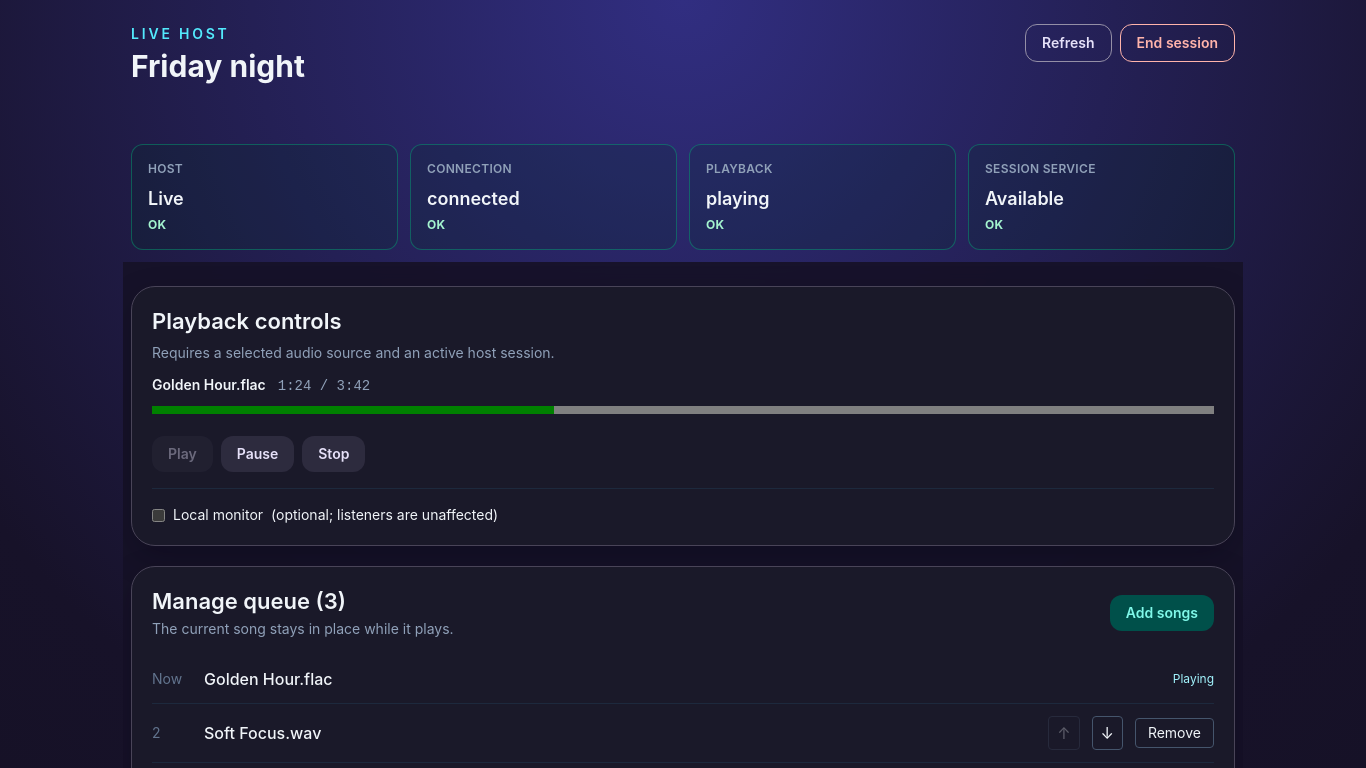
Test: host presentation of listener reconnects › shows a reconnecting listener and transport, then recovery, without leaving the session
Click the button "Refresh" at (1068, 43), box [1025,24,1112,62]
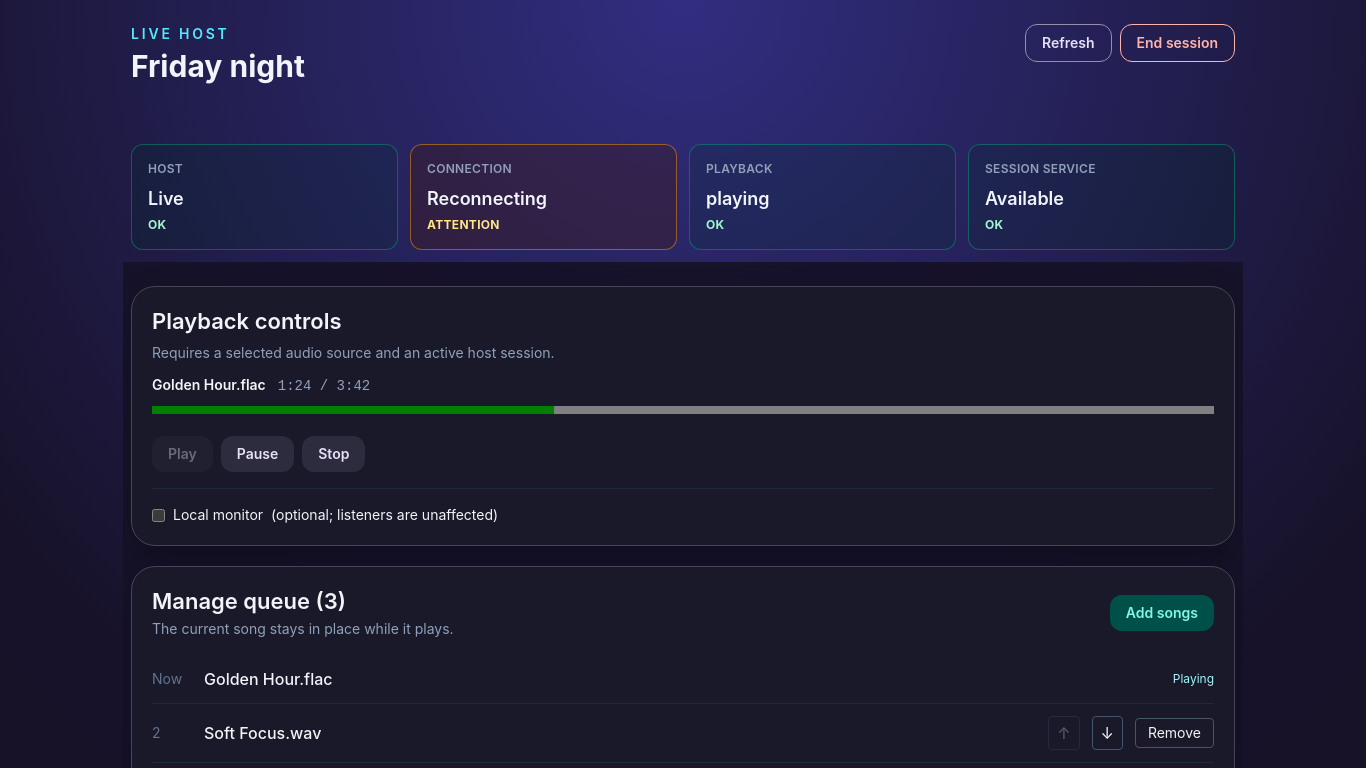
Check: the text "Reconnecting" is shown, box [427,188,547,209]
Check: the text "ATTENTION" is shown, box [427,217,500,232]
Click the button "Refresh" at (1068, 43), box [1025,24,1112,62]
(page scrolled)
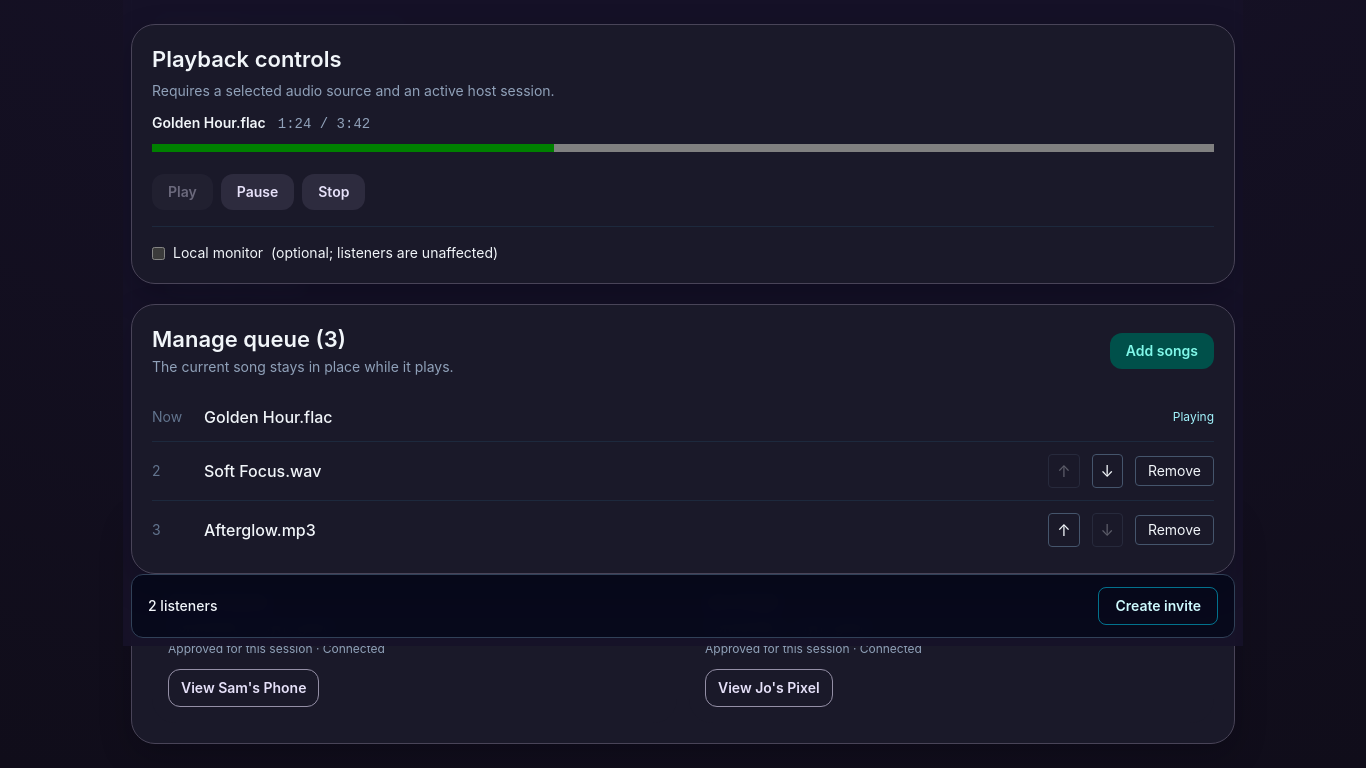
Check: the 1st text "Approved for this session · Connected" is shown, box [168,641,385,656]
Check: the text "ATTENTION" is gone
Check: the text "Connected — sync good" is shown, box [168,618,332,635]
